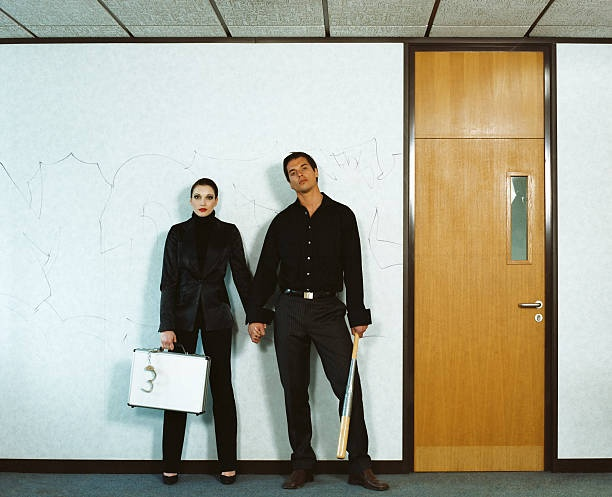bita: (333, 325, 364, 462)
